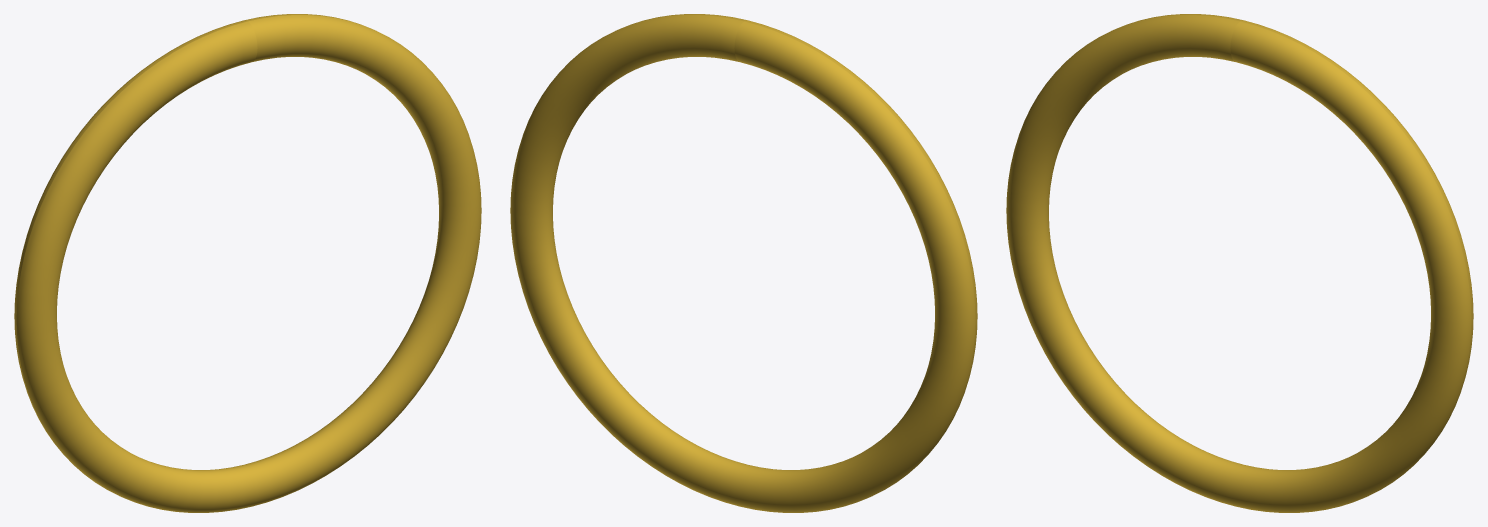
Rendered from chain.glb.
The picture shows the model from 3 angles, left to right: view 1: azimuth 30°, elevation 25°; view 2: azimuth 150°, elevation 25°; view 3: azimuth 330°, elevation 25°; orthographic projection.
Size of the model in its own units: 1.96 by 1.96 by 0.14.
